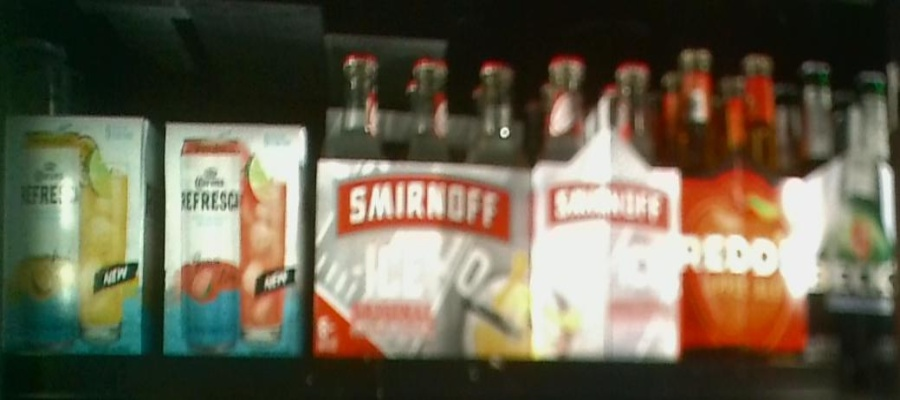bottle: (318, 58, 534, 360), (537, 55, 678, 345), (1, 112, 160, 360), (678, 41, 806, 347), (164, 118, 311, 359)
